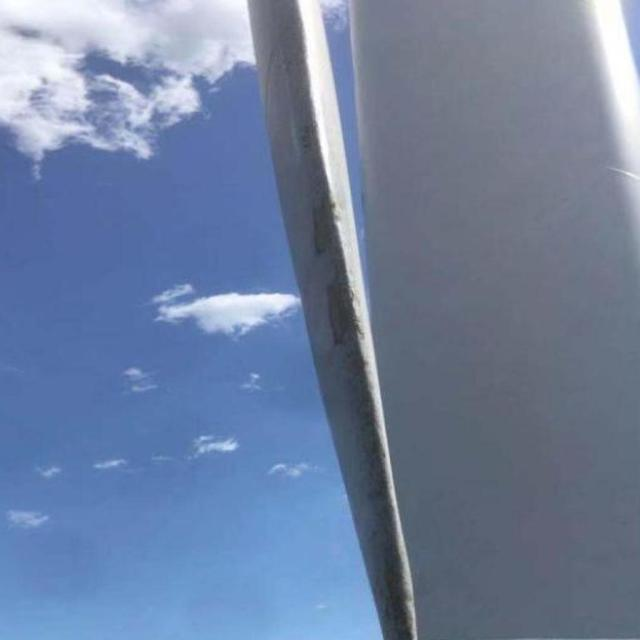corrosion: (307, 196, 375, 356)
